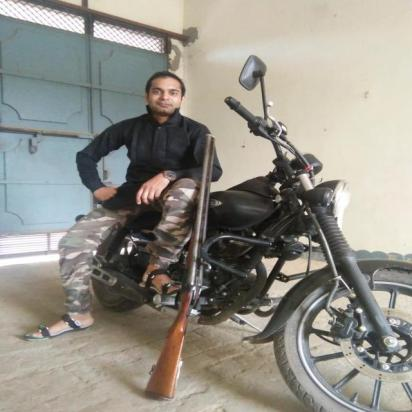Gun: (141, 132, 218, 403)
